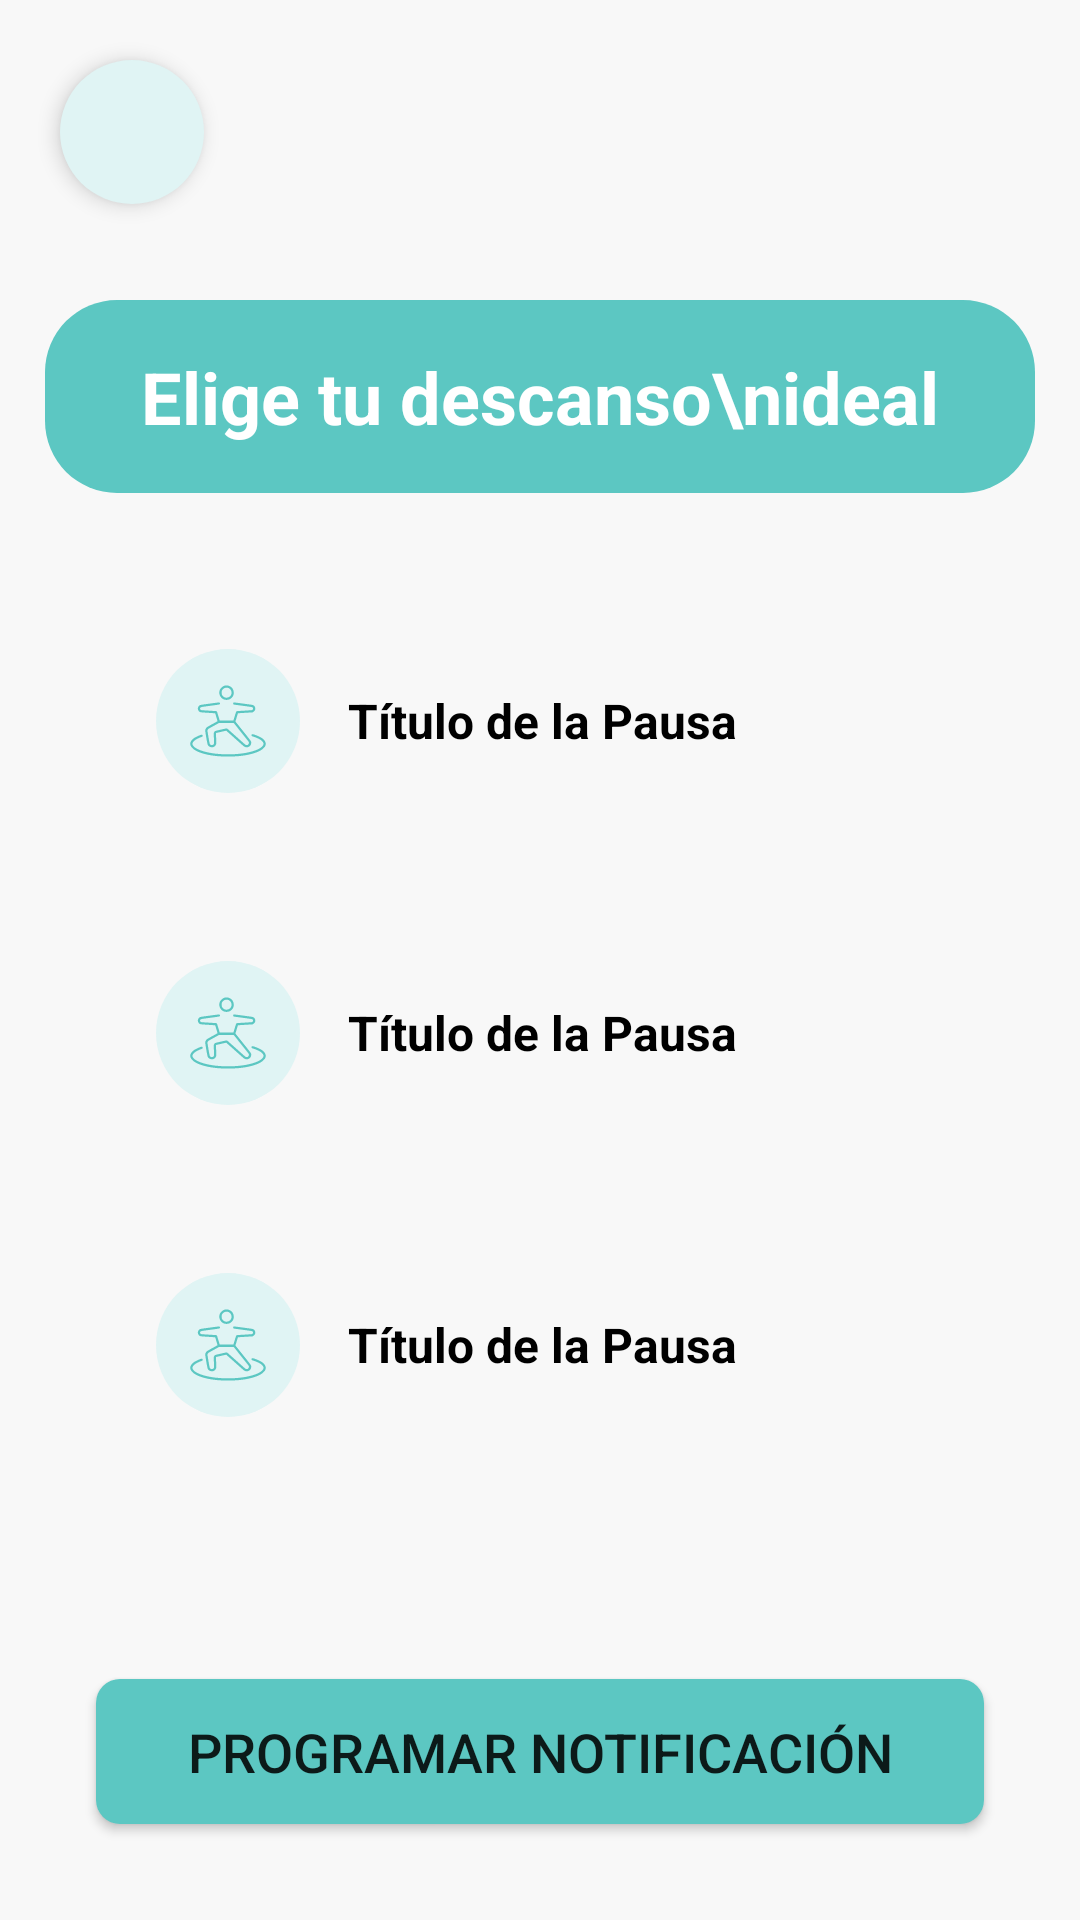

Screen size 1080px x 1920px. Icon name, then its box in pixels as (x1, y1, x2, y2):
stretch: (190, 685, 266, 757), (190, 997, 266, 1069), (190, 1309, 266, 1381)
